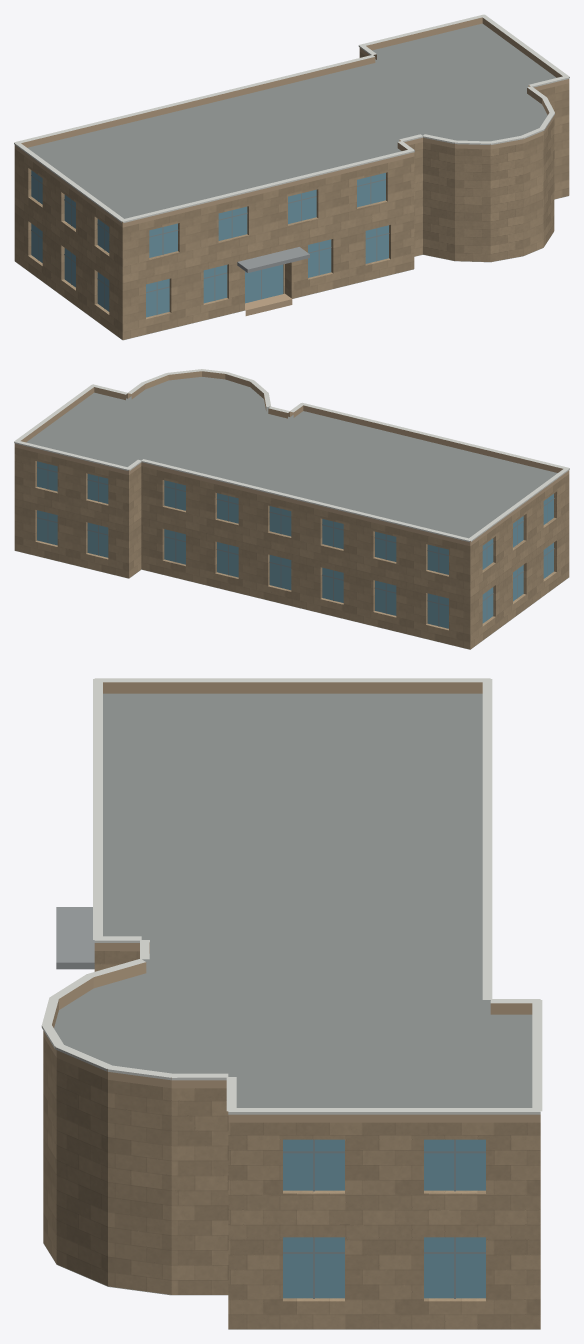
The picture shows the model from 3 angles, top to bottom: view 1: azimuth 30°, elevation 25°; view 2: azimuth 150°, elevation 25°; view 3: azimuth 270°, elevation 25°; orthographic projection. The views are drawn at different scales.
Parts seen in each view (by area): view 1: b207__wall, unist-batch-b207__parapet, b207__glass, b207__trim, b207__frame, b207__canopy, b207__entranceThreshold_0; view 2: b207__wall, unist-batch-b207__parapet, b207__glass, b207__trim, b207__frame; view 3: unist-batch-b207__parapet, b207__wall, b207__trim, b207__glass, b207__canopy, b207__frame.
Part boxes in pixels (x1=…): b207__wall: x1=14, y1=51, x2=569, y2=339; unist-batch-b207__parapet: x1=14, y1=17, x2=569, y2=340; b207__glass: x1=31, y1=170, x2=388, y2=317; b207__trim: x1=14, y1=14, x2=569, y2=222; b207__frame: x1=31, y1=175, x2=389, y2=314; b207__canopy: x1=237, y1=247, x2=309, y2=272; b207__entranceThreshold_0: x1=245, y1=293, x2=292, y2=315; b207__wall: x1=14, y1=447, x2=569, y2=649; unist-batch-b207__parapet: x1=14, y1=371, x2=569, y2=649; b207__glass: x1=37, y1=461, x2=553, y2=628; b207__trim: x1=14, y1=369, x2=569, y2=542; b207__frame: x1=37, y1=464, x2=554, y2=626; unist-batch-b207__parapet: x1=43, y1=682, x2=540, y2=1329; b207__wall: x1=43, y1=951, x2=540, y2=1329; b207__trim: x1=41, y1=678, x2=542, y2=1114; b207__glass: x1=283, y1=1139, x2=485, y2=1298; b207__canopy: x1=56, y1=907, x2=94, y2=969; b207__frame: x1=283, y1=1139, x2=485, y2=1298.
Bounding box in the file's own units: 37.38 × 9.15 × 18.21.
7 materials, 1 textured.
